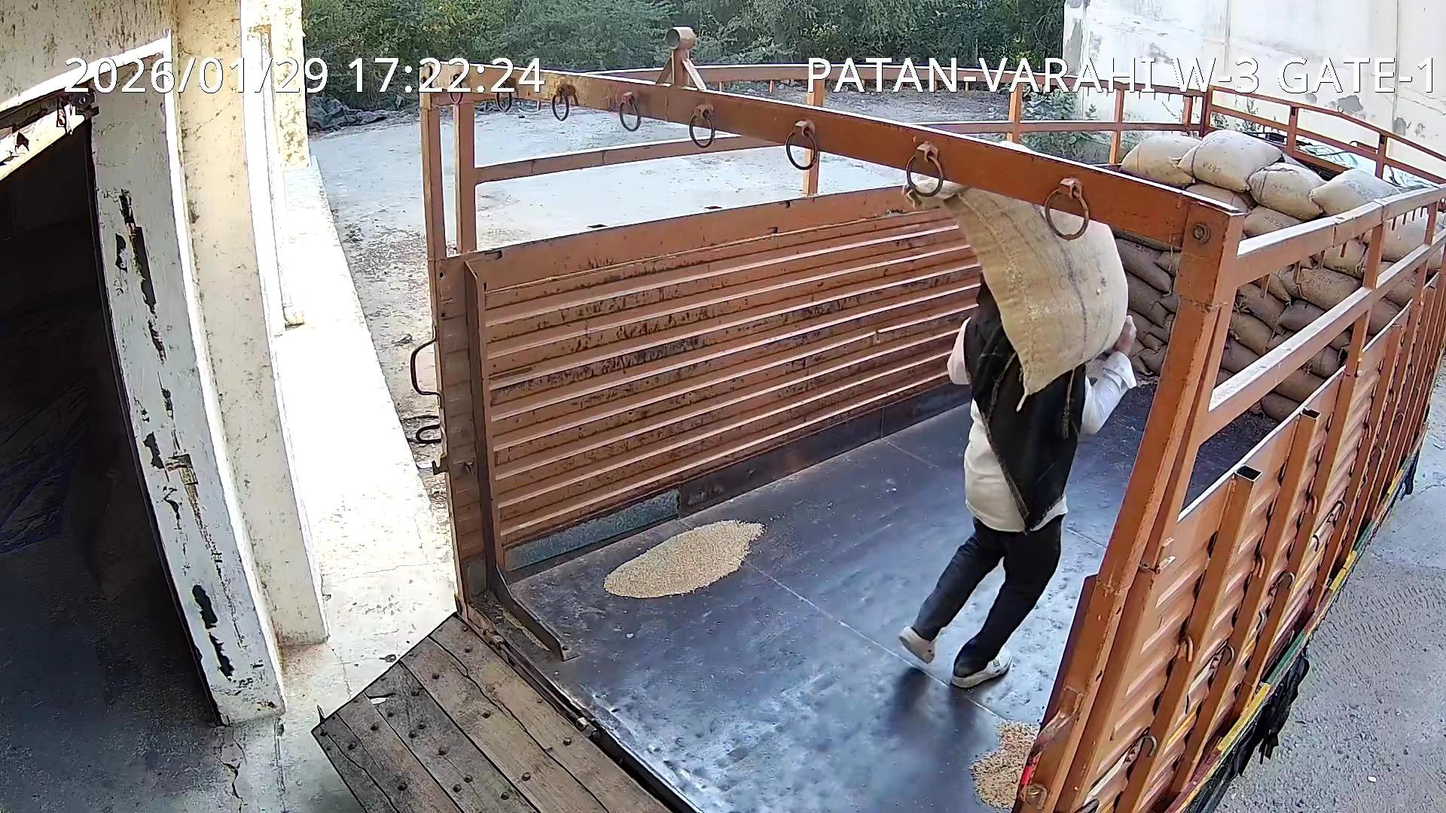Sack: (906, 181, 1127, 394)
